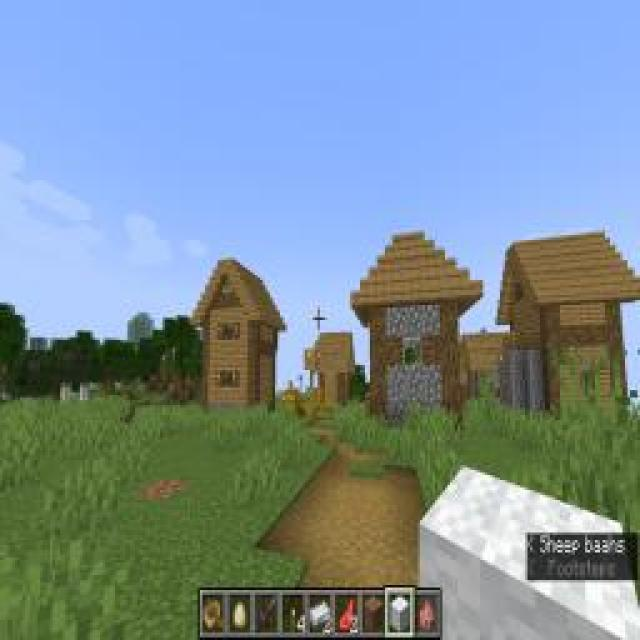Villager: (349, 225, 486, 430), (495, 236, 640, 424), (189, 252, 286, 412), (314, 330, 356, 410)
